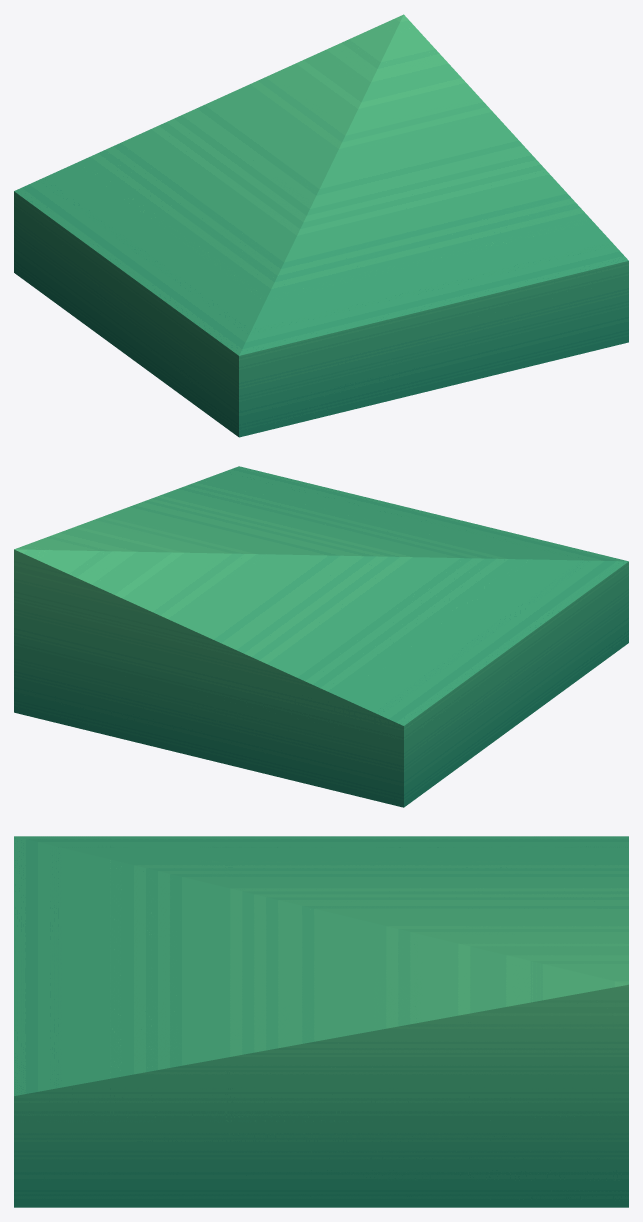
Rendered from tile-corner-outer.glb.
The picture shows the model from 3 angles, top to bottom: view 1: azimuth 30°, elevation 25°; view 2: azimuth 150°, elevation 25°; view 3: azimuth 270°, elevation 25°; orthographic projection. The views are drawn at different scales.
Visible parts, largest first — view 1: tile-corner-outer; view 2: tile-corner-outer; view 3: tile-corner-outer.
Boxes of the visible parts, x1,y1,x2,y2 form: tile-corner-outer: (14, 14, 628, 437); tile-corner-outer: (14, 466, 628, 807); tile-corner-outer: (14, 836, 628, 1207).
Size of the model in its own units: 1 by 0.4 by 1.
Materials: 1 (1 with a texture image).
